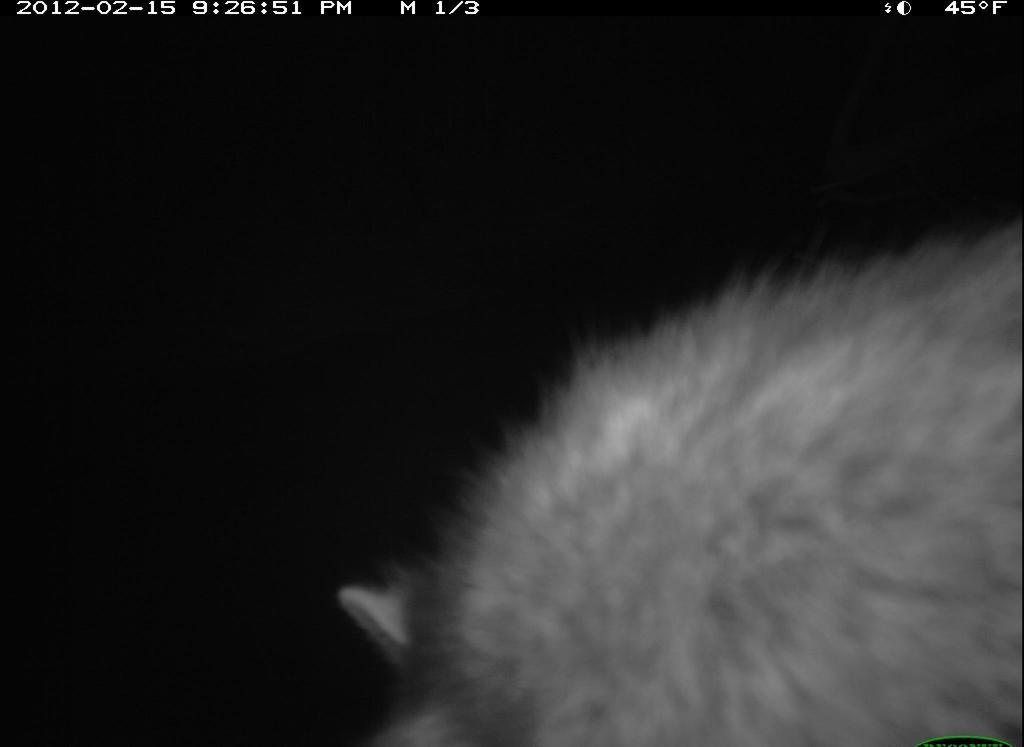raccoon: (336, 219, 1023, 747)
